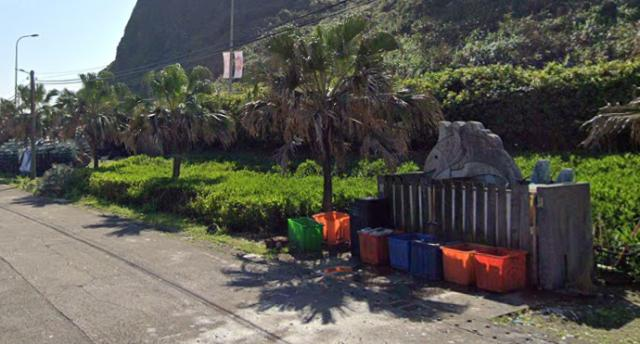pollute: (280, 192, 531, 299)
